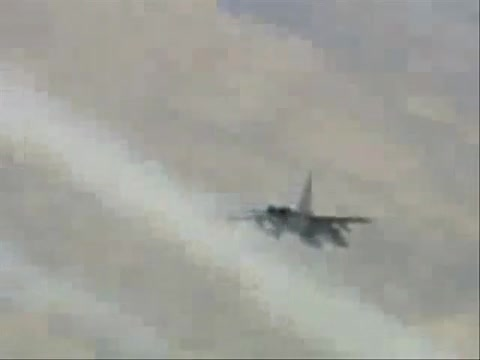aeroplane: (228, 171, 376, 250)
